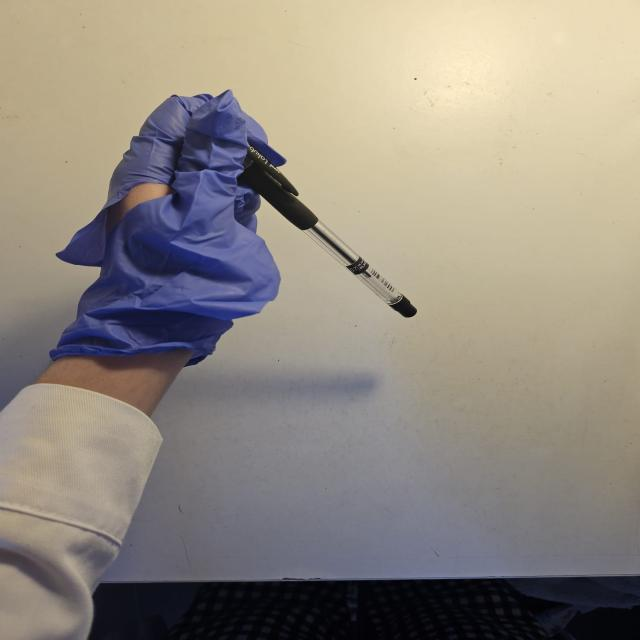gloves_damaged: (46, 88, 282, 361)
